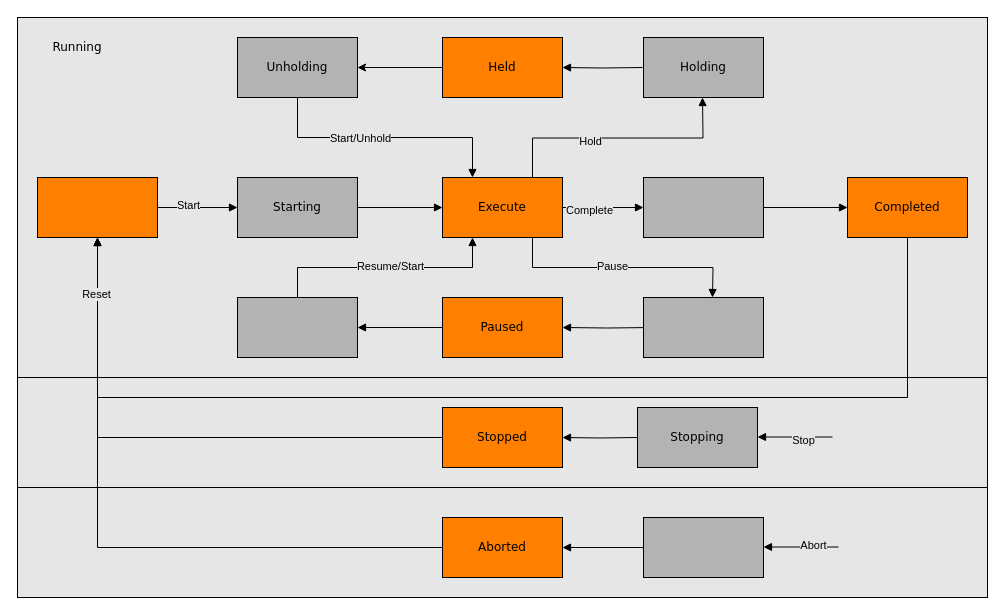
This 1005x615 diagram has some shape labels left out. Each missing label, with the centre of its shape:
Aborting: point (703, 547)
Completing: point (703, 207)
Idle: point (97, 207)
Pausing: point (703, 327)
Resuming: point (297, 327)
